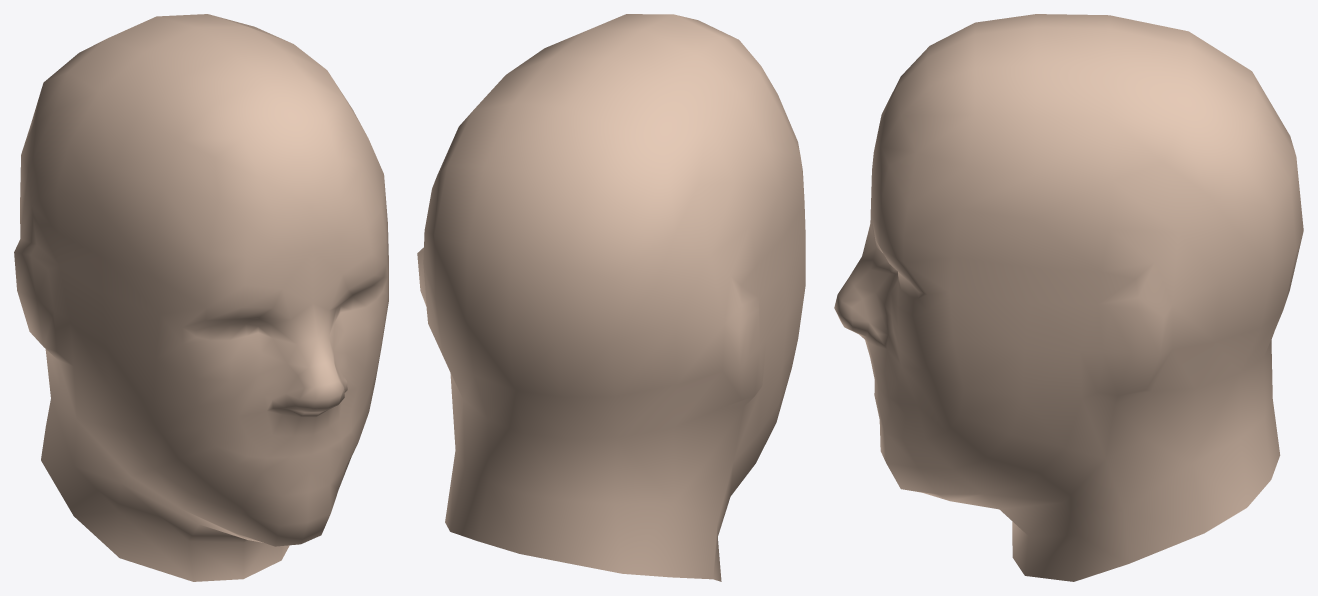
Rendered from Boss_Head.fbx.
3 views of the same model, side by side, from view 1: azimuth 30°, elevation 25°; view 2: azimuth 150°, elevation 25°; view 3: azimuth 270°, elevation 25° (orthographic). The views are drawn at different scales.
Parts seen in each view (by area): view 1: man; view 2: man; view 3: man.
Part boxes in pixels (<box>): man: <box>14,14,388,581</box>; man: <box>417,14,805,581</box>; man: <box>834,14,1303,581</box>.
Bounding box in the file's own units: 18.2 × 29 × 23.27.
